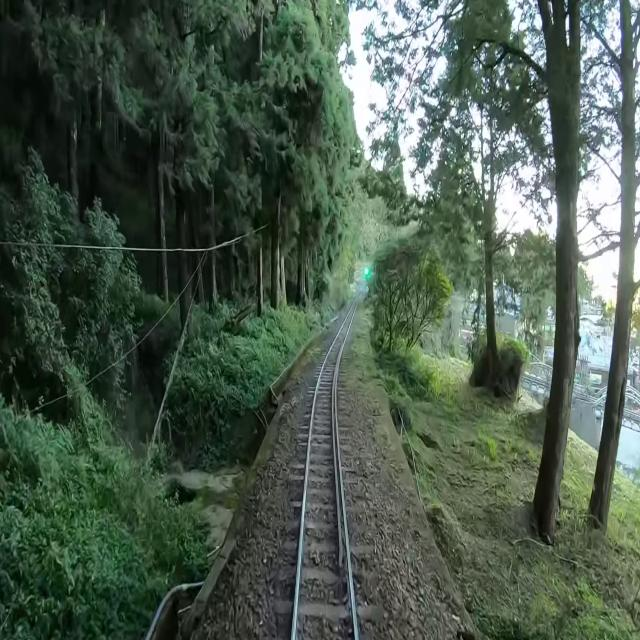rail-track: (296, 299, 357, 639)
